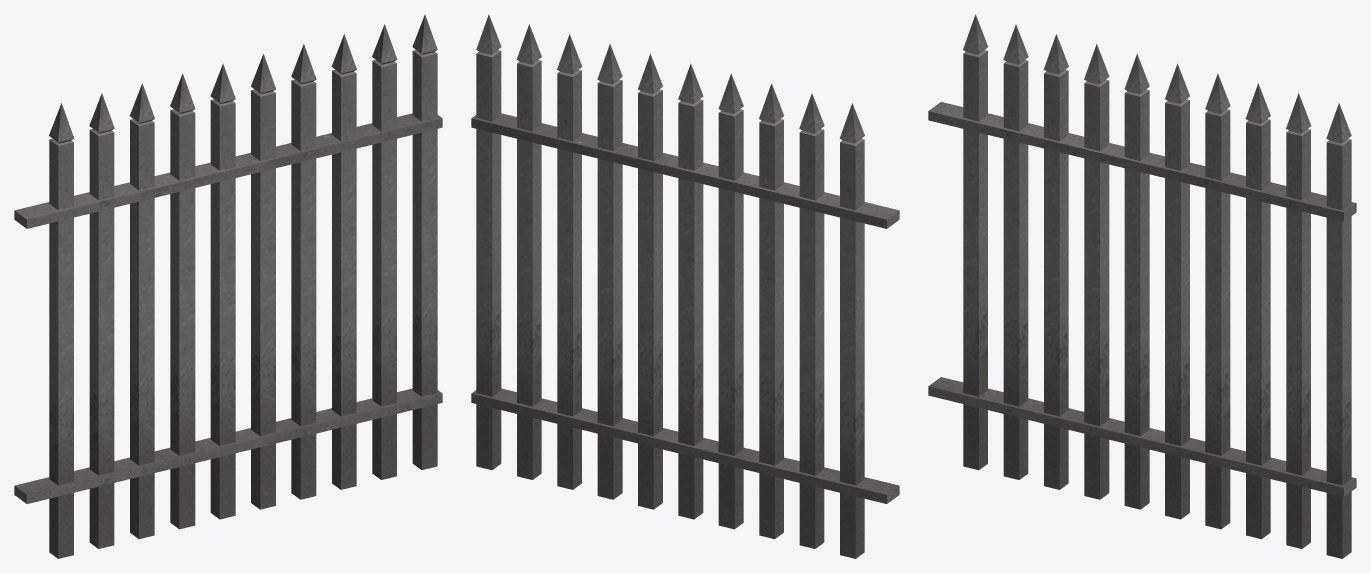
The model's file is brick_wall_gate.fbx.
The picture shows the model from 3 angles, left to right: view 1: azimuth 30°, elevation 25°; view 2: azimuth 150°, elevation 25°; view 3: azimuth 330°, elevation 25°; orthographic projection.
Visible parts, largest first — view 1: Body; view 2: Body; view 3: Body.
Part boxes in pixels (x1,y1,x2,y2): Body: [14, 14, 442, 558]; Body: [471, 14, 899, 558]; Body: [928, 14, 1356, 558].
Bounding box in the file's own units: 158 × 164 × 8.4.
